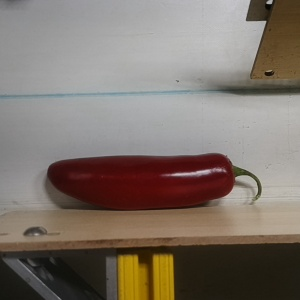Cut Point: (213, 152, 246, 196)
